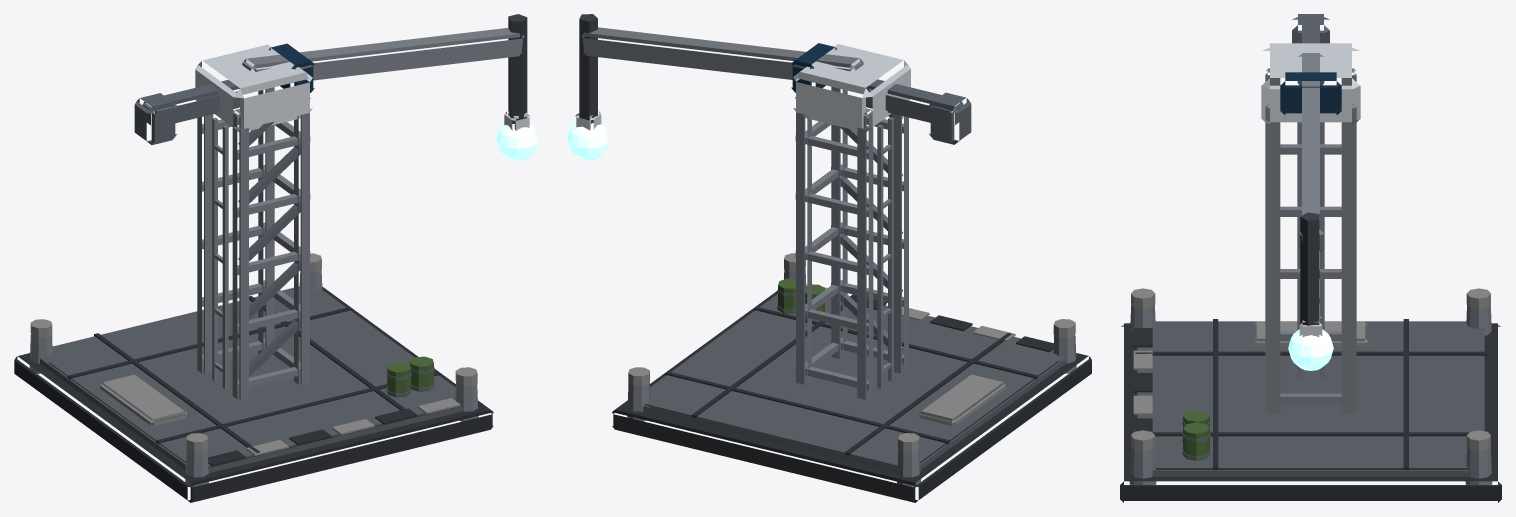
The model's file is con_crane.glb.
The picture shows the model from 3 angles, left to right: view 1: azimuth 30°, elevation 25°; view 2: azimuth 150°, elevation 25°; view 3: azimuth 270°, elevation 25°; orthographic projection. The views are drawn at different scales.
Parts seen in each view (by area): view 1: body, turret; view 2: body, turret; view 3: body, turret.
Boxes of the visible parts, bbox=[...] form: body: bbox=[14, 87, 493, 502]; turret: bbox=[134, 14, 538, 160]; body: bbox=[612, 86, 1091, 502]; turret: bbox=[567, 14, 971, 160]; body: bbox=[1120, 68, 1501, 502]; turret: bbox=[1261, 14, 1360, 370].
Bounding box in the file's own units: 45.44 × 34.15 × 32.
